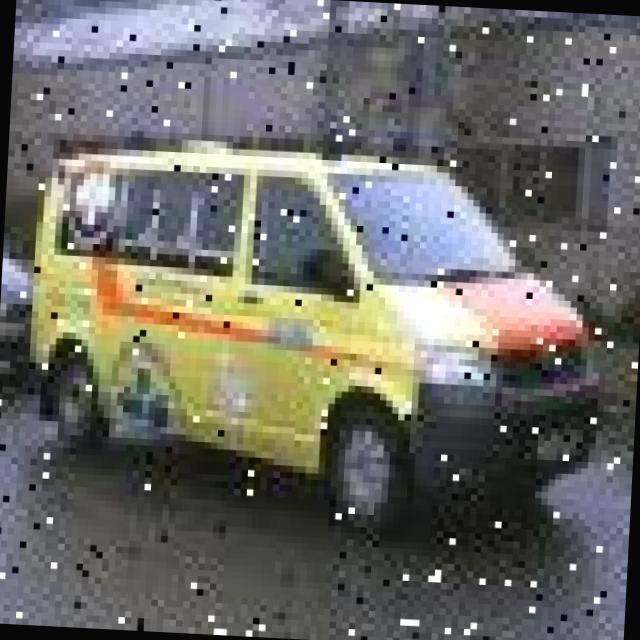emergency-vehicle: (19, 103, 622, 542)
